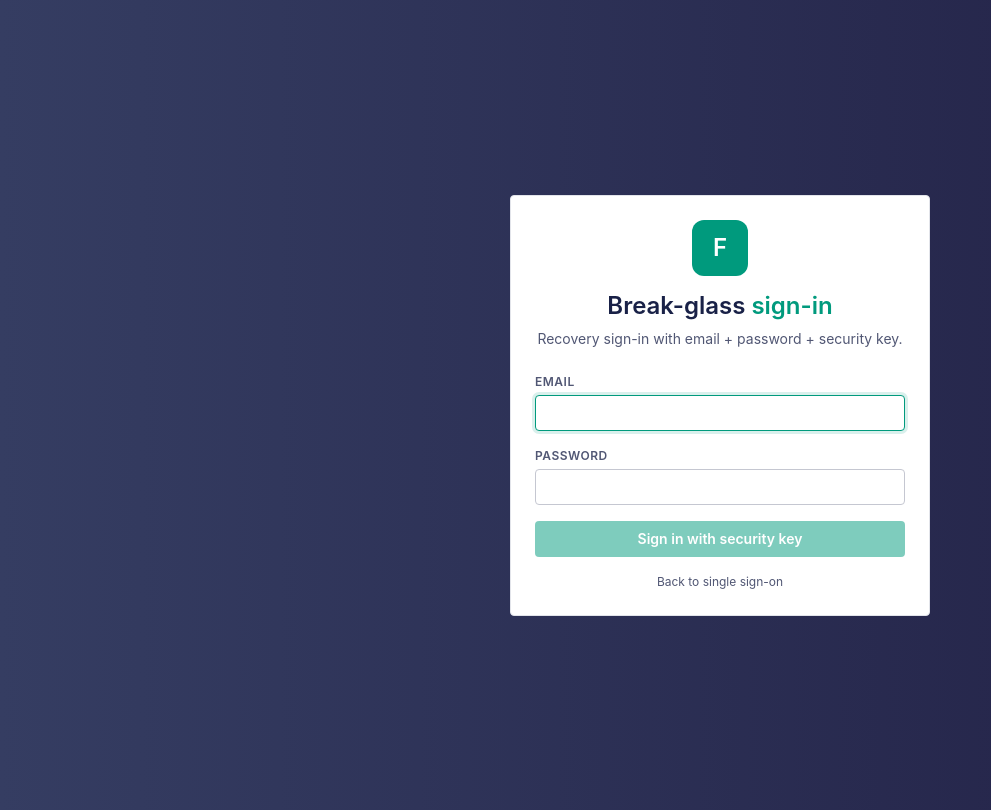
BreakGlassLogin error mapping › renders the directed copy for no_credentials
In the field labelled "Email": (720, 412) [535,394,905,430], type "ops@example.com"
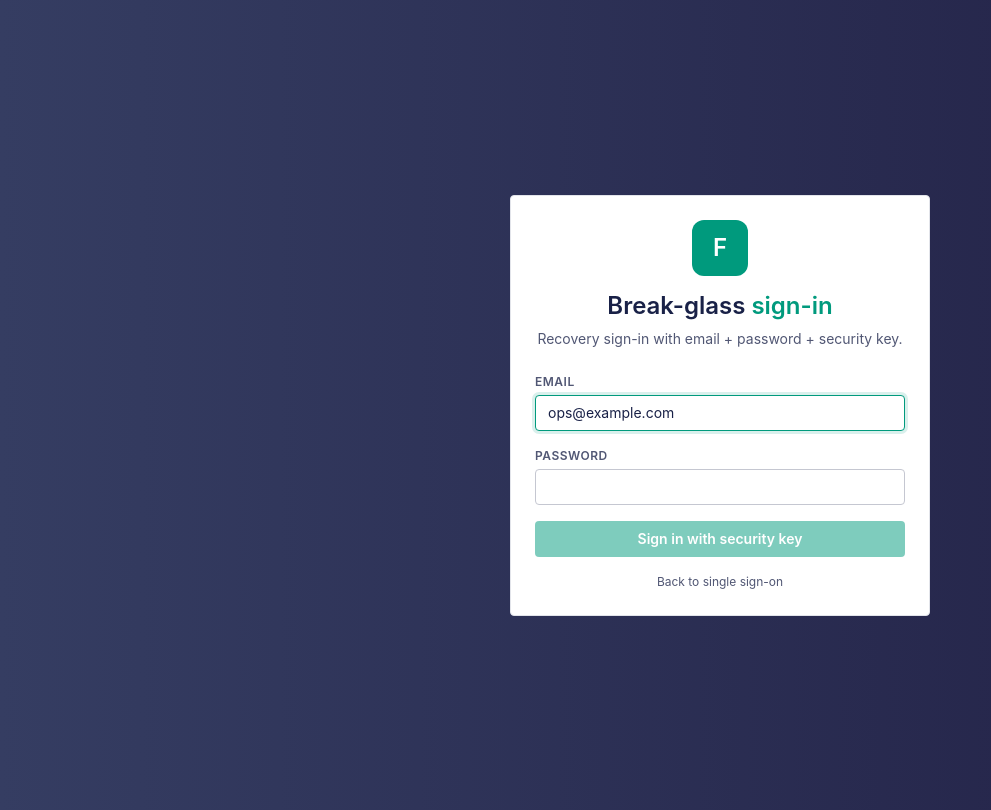
In the password field labelled "Password": (720, 486) [535,468,905,504], type "pw"
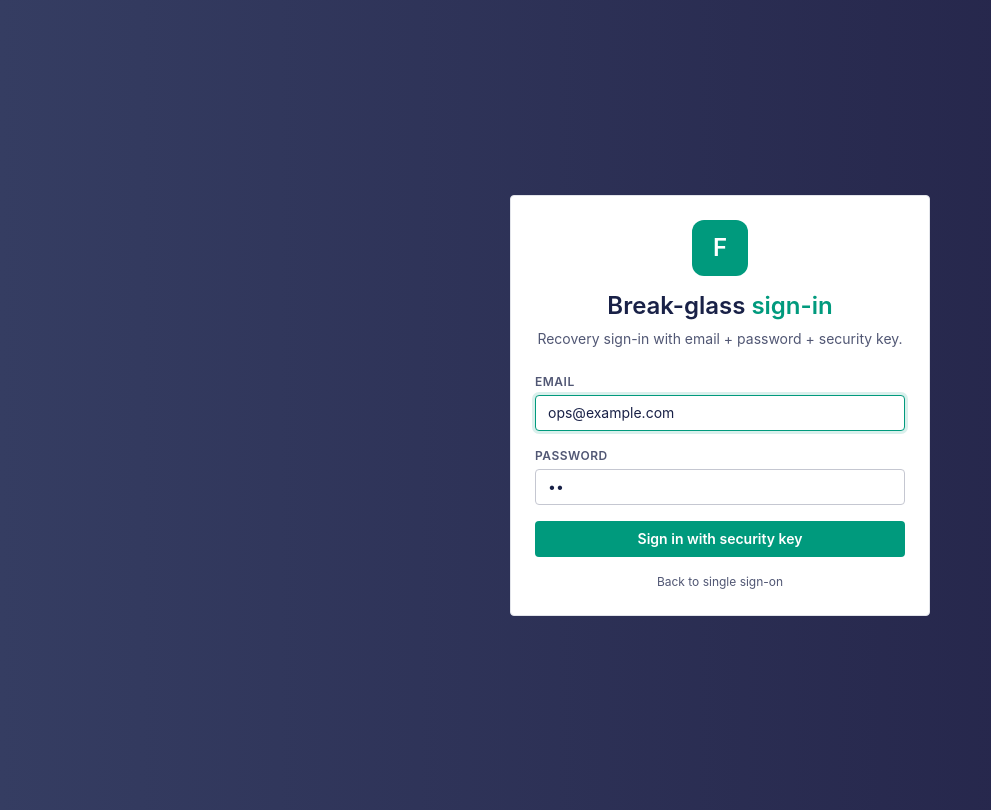
Click the button "Sign in with security key": (720, 538) [535,520,905,556]
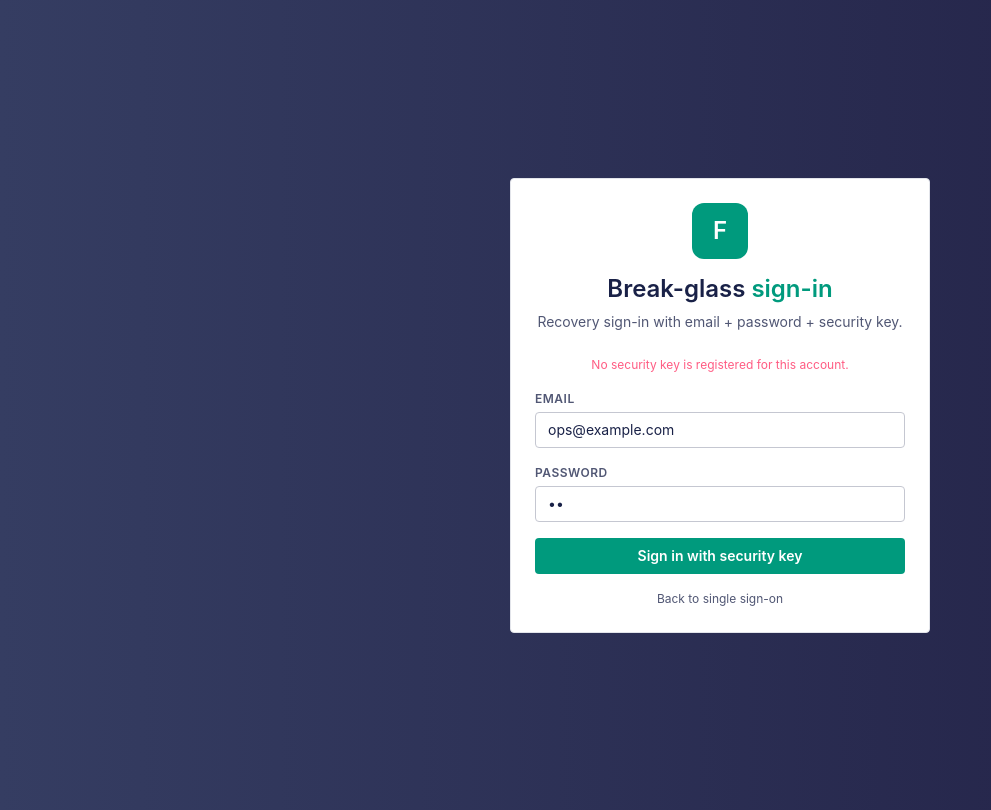
Check: the message shows "No security key is registered", box [591,356,849,372]
